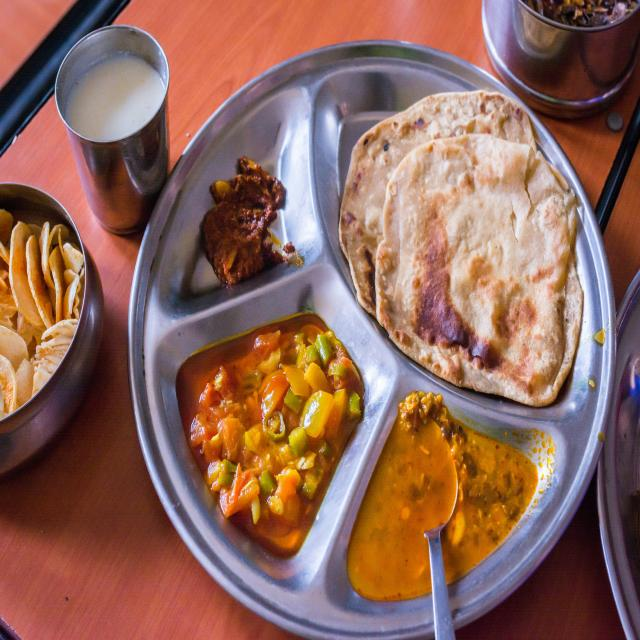Achar: (194, 147, 306, 288)
Aloo Beans: (182, 317, 357, 539)
Chapati: (346, 85, 587, 403)
